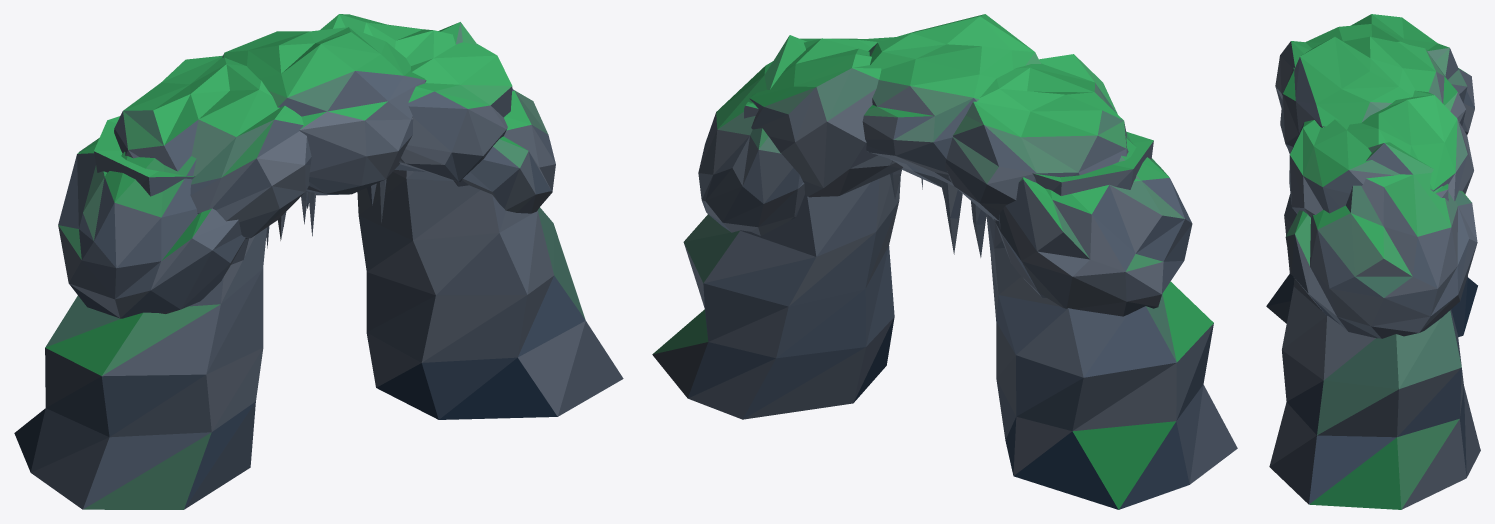
File: batu_arch_granite_454781.glb
3 renders of one model, left to right at view 1: azimuth 30°, elevation 25°; view 2: azimuth 150°, elevation 25°; view 3: azimuth 270°, elevation 25°, orthographic. The views are drawn at different scales.
Visible parts, largest first — view 1: Lengkungan_Gua_Batu; view 2: Lengkungan_Gua_Batu; view 3: Lengkungan_Gua_Batu.
Part boxes in pixels (x1,y1,x2,y2): Lengkungan_Gua_Batu: [14, 14, 623, 509]; Lengkungan_Gua_Batu: [652, 14, 1237, 509]; Lengkungan_Gua_Batu: [1266, 14, 1480, 509].
Size of the model in its own units: 10.65 by 7.25 by 4.09.
